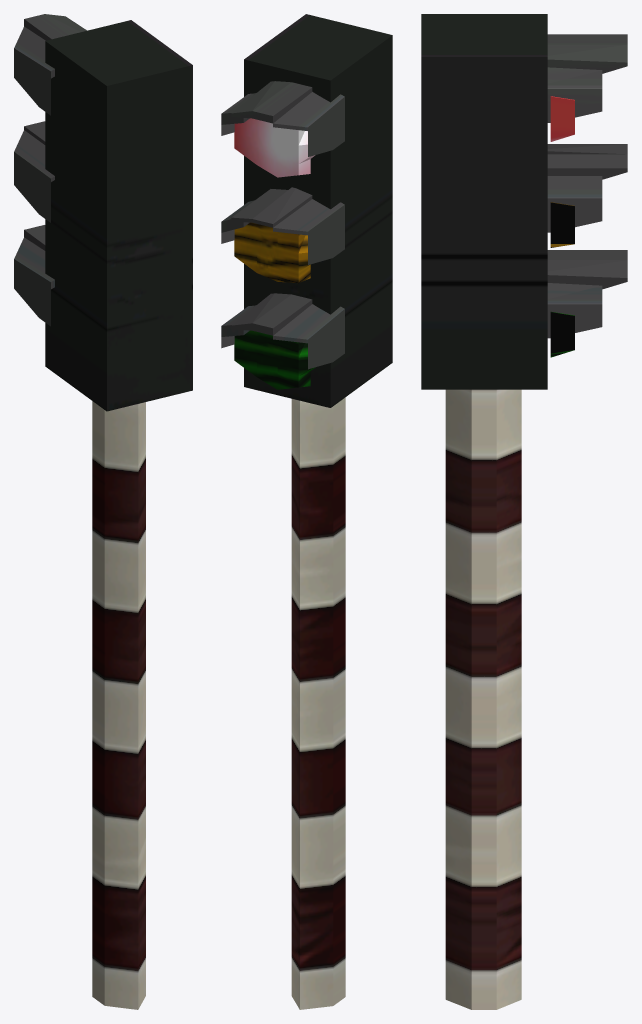
File: Tlight.glb
3 views of the same model, side by side, from view 1: azimuth 30°, elevation 25°; view 2: azimuth 150°, elevation 25°; view 3: azimuth 270°, elevation 25° (orthographic). The views are drawn at different scales.
Parts seen in each view (by area): view 1: Tlight; view 2: Tlight; view 3: Tlight.
Part boxes in pixels (left/top/right/bottom): Tlight: left=14, top=14, right=192, bottom=1009; Tlight: left=221, top=14, right=392, bottom=1009; Tlight: left=421, top=14, right=627, bottom=1009.
Size of the model in its own units: 4.23 by 42.18 by 8.17.
1 material, 1 textured.
